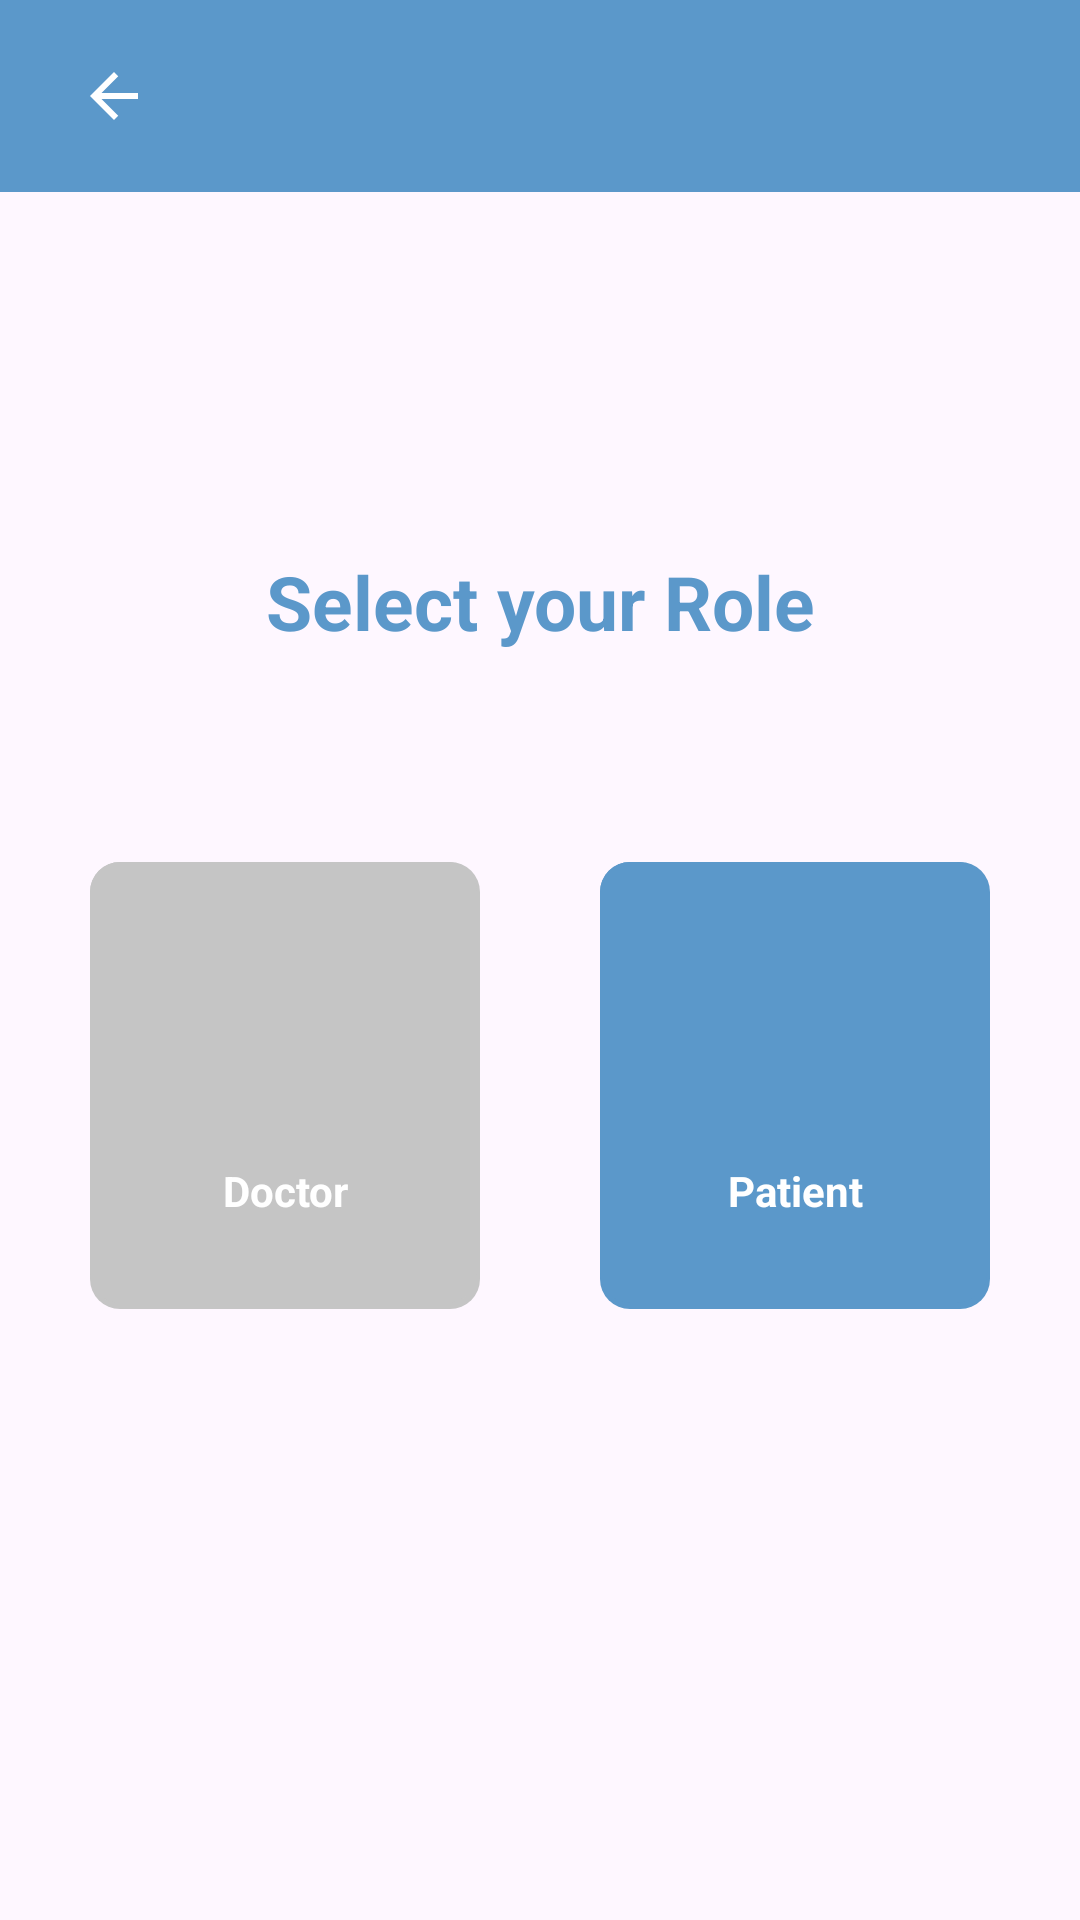

Icons on this 1080*1920 Android screen, each with the point to tap as [x,y]:
back arrow: [114,96]
